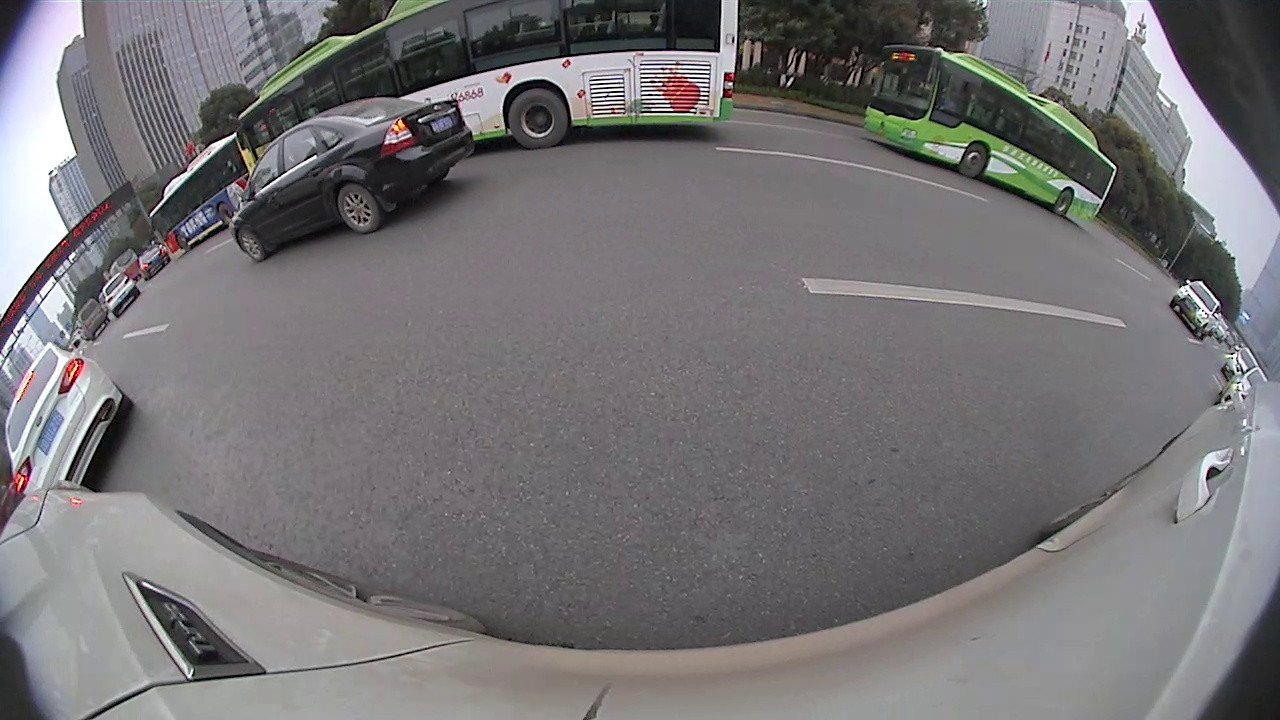bus: (227, 4, 738, 192), (861, 38, 1119, 233), (147, 134, 261, 267)
car: (231, 93, 478, 267), (4, 339, 136, 500)
front: (235, 226, 267, 263), (958, 141, 986, 177)
rear: (505, 88, 569, 151), (333, 181, 385, 235), (1053, 188, 1074, 218), (216, 203, 233, 226)
